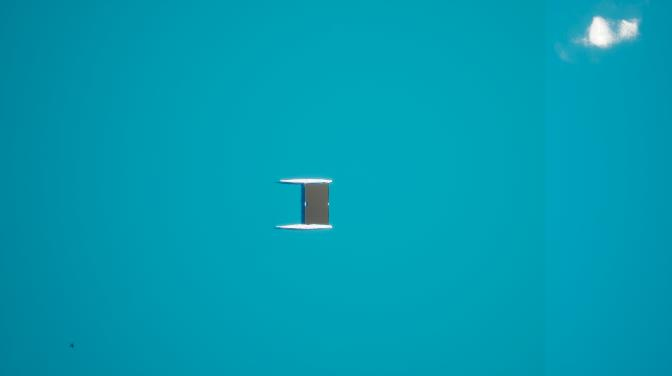boat: (277, 177, 335, 232)
drone: (67, 339, 76, 352)
land_base: (306, 184, 329, 225)
light_reflex: (553, 5, 657, 74)
